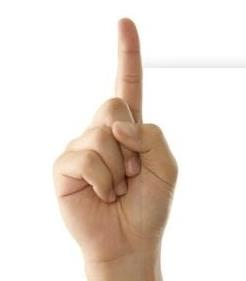up: (44, 15, 182, 248)
